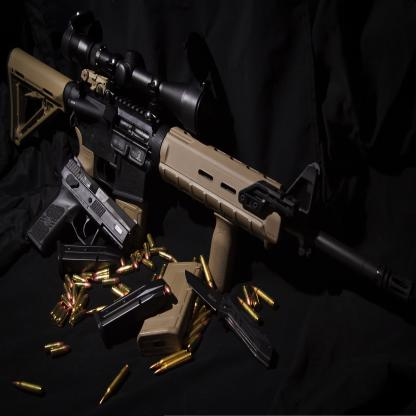Gun: (7, 7, 415, 311)
Knife: (184, 266, 275, 370)
Pistol: (25, 153, 140, 255)
